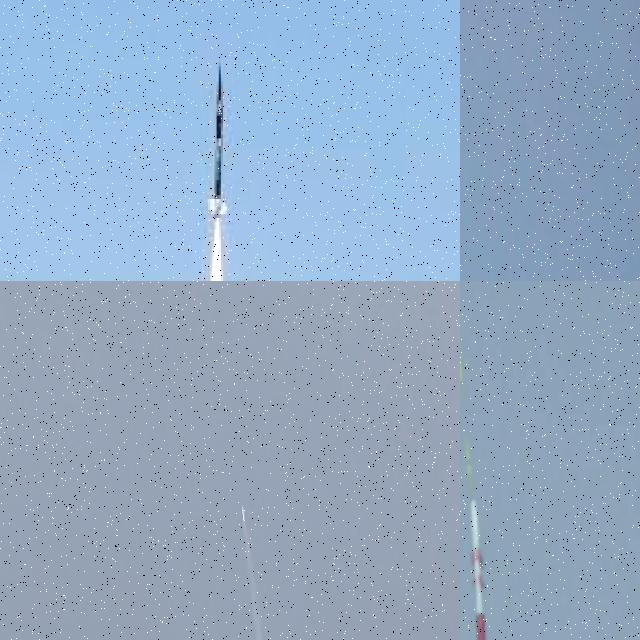Rocket: (465, 496, 498, 640), (205, 61, 230, 223), (242, 507, 244, 521)
